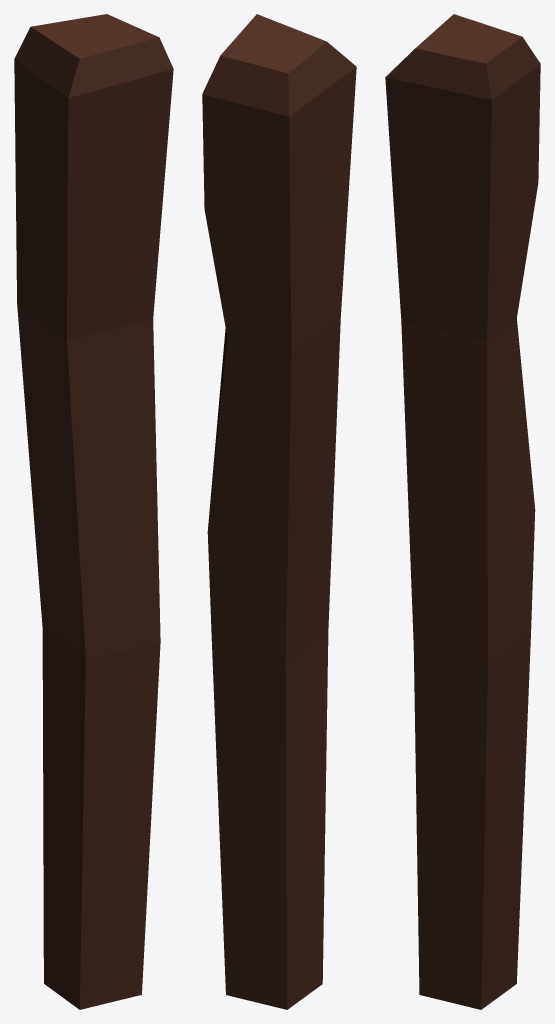
Rendered from FenceWoodEnd_01.glb.
The picture shows the model from 3 angles, left to right: view 1: azimuth 30°, elevation 25°; view 2: azimuth 150°, elevation 25°; view 3: azimuth 330°, elevation 25°; orthographic projection.
Parts seen in each view (by area): view 1: FenceWoodEnd_01; view 2: FenceWoodEnd_01; view 3: FenceWoodEnd_01.
Part boxes in pixels (x1,y1,x2,y2): FenceWoodEnd_01: (14,14,173,1009); FenceWoodEnd_01: (202,14,356,1009); FenceWoodEnd_01: (385,14,540,1009).
Size of what is drawn, in the model's own units: 0.1407 by 1.21 by 0.1403.
1 material, 1 textured.
